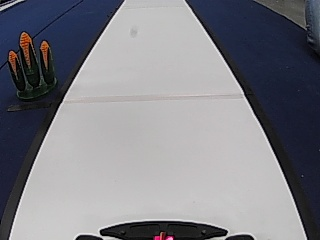corn: (6, 30, 58, 97)
